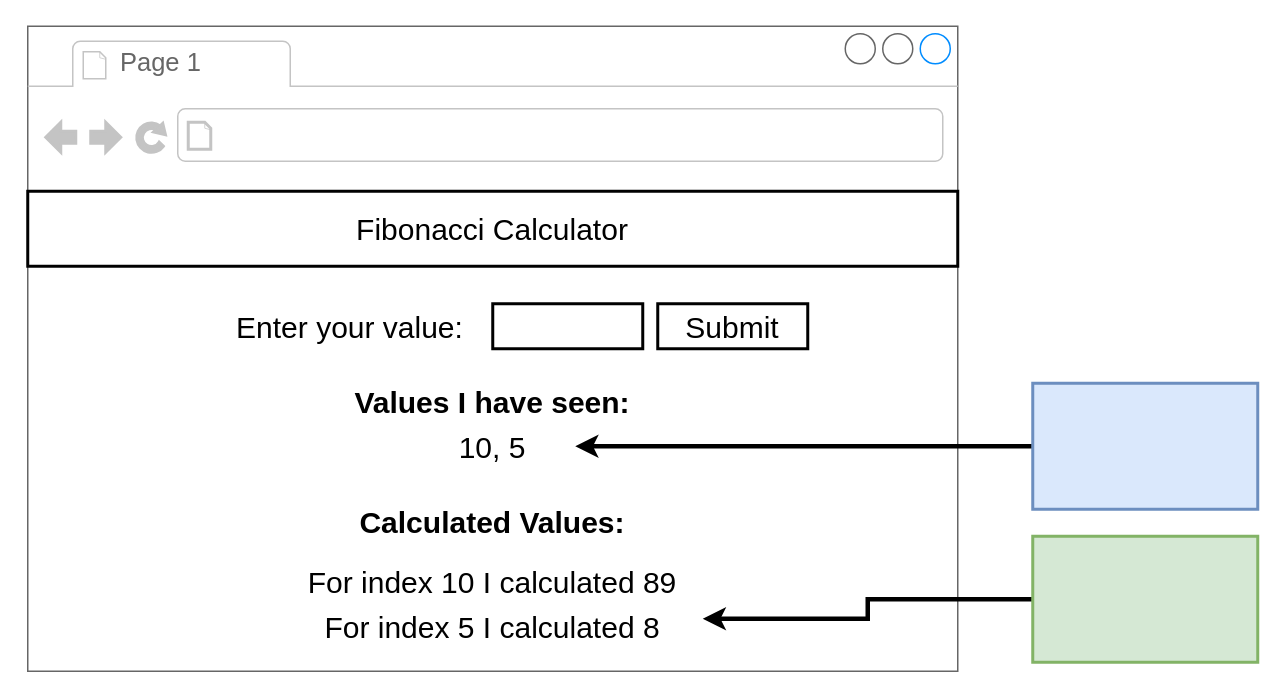
Some shapes in this 1284 by 698 pixel diagram are drawn without their labels. The centre of each missing label's shape, as x and y in pixels:
Postgres: point 1144,445
Redis: point 1144,598
